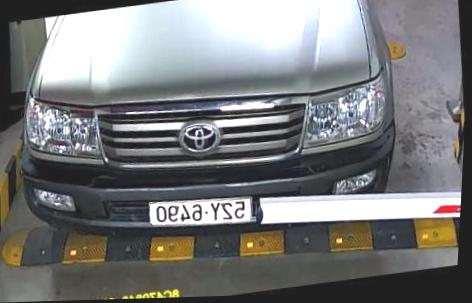License_Plate: (141, 191, 256, 237)
